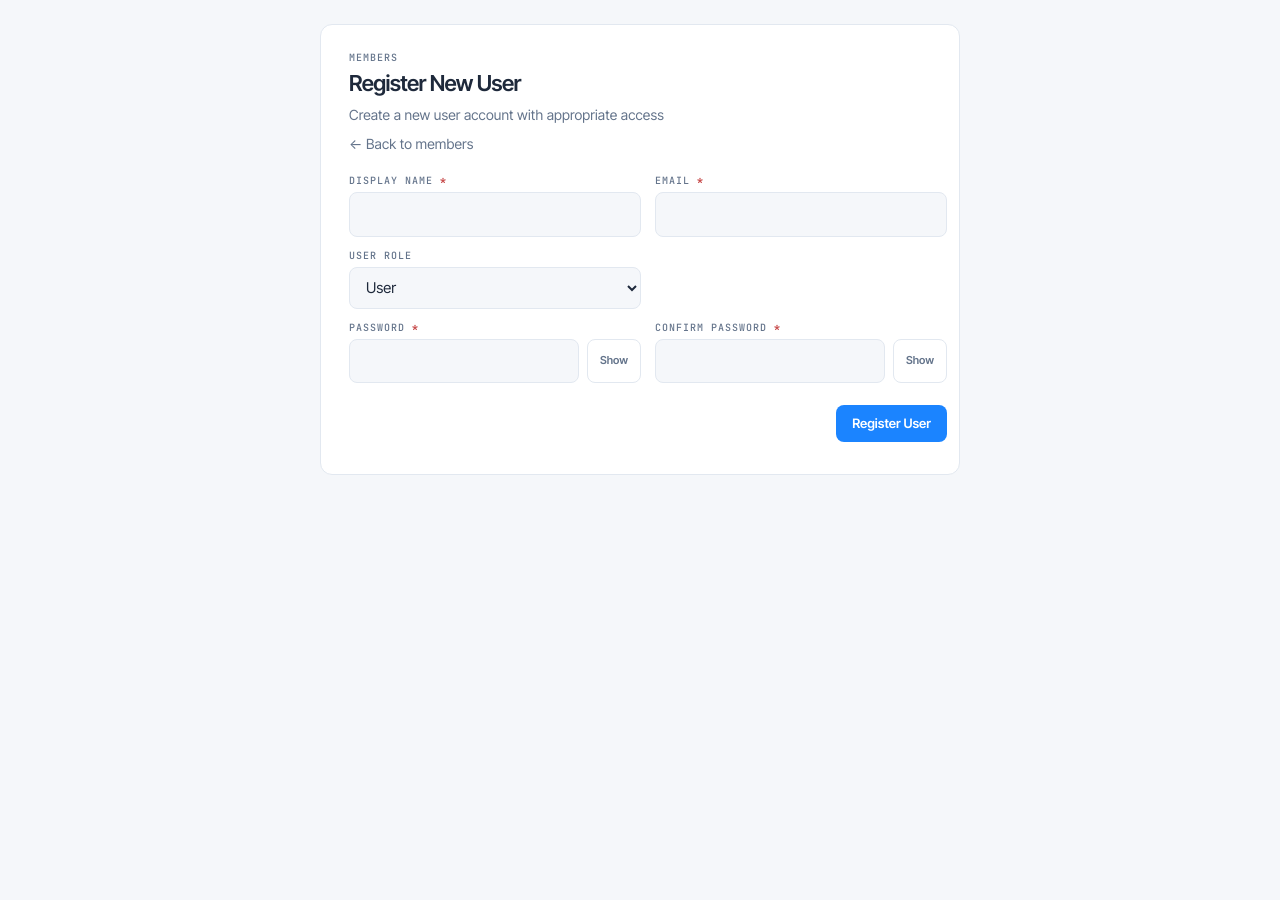
Test: CreateUserPage › registers a user as admin and returns to members
The width and height of the screenshot is (1280, 900).
Type "Fresh" into the field labelled "Display Name *" at (495, 214), box left=349, top=192, right=641, bottom=237
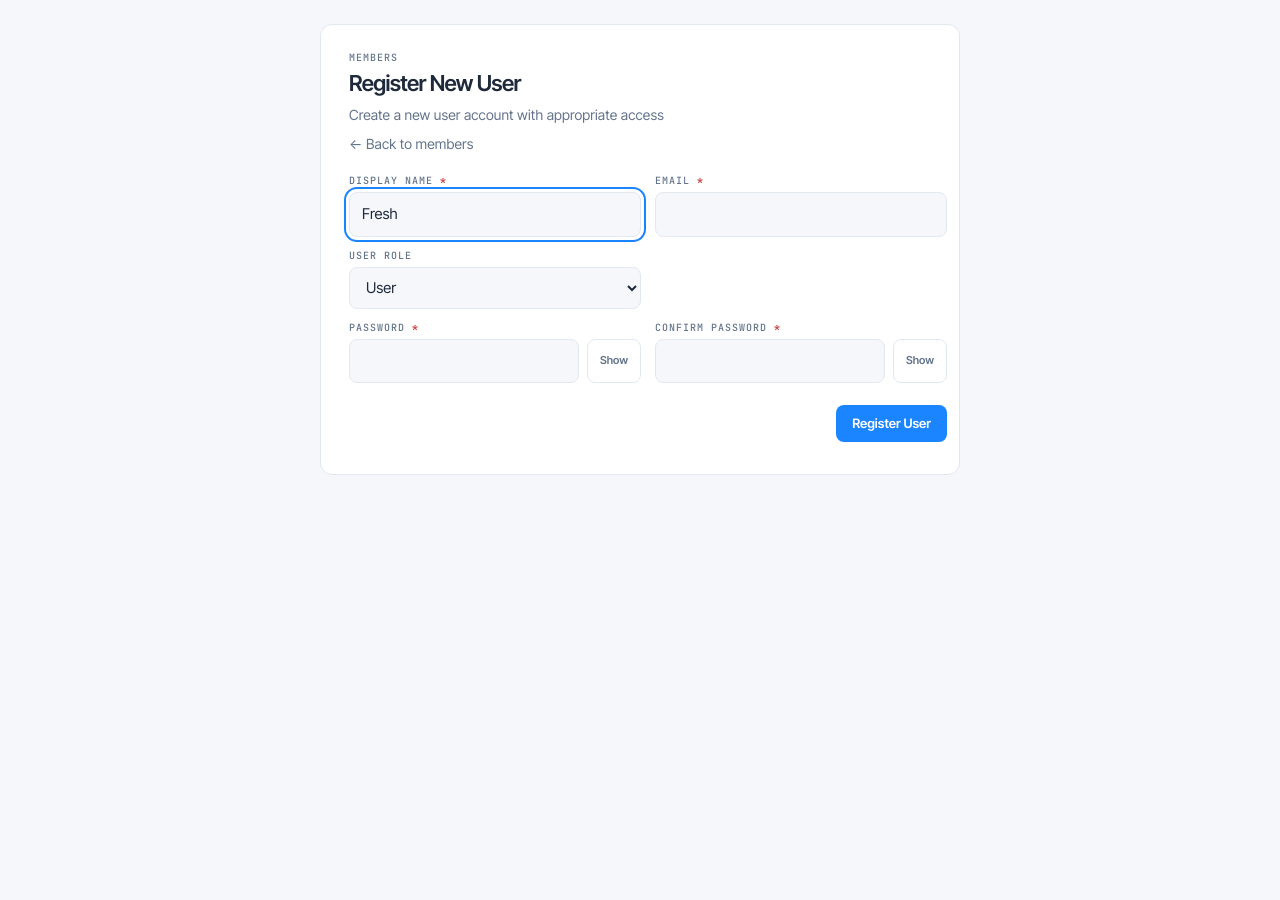
Type "fresh@printmomentum.local" into the field labelled "Email *" at (801, 214), box left=655, top=192, right=947, bottom=237
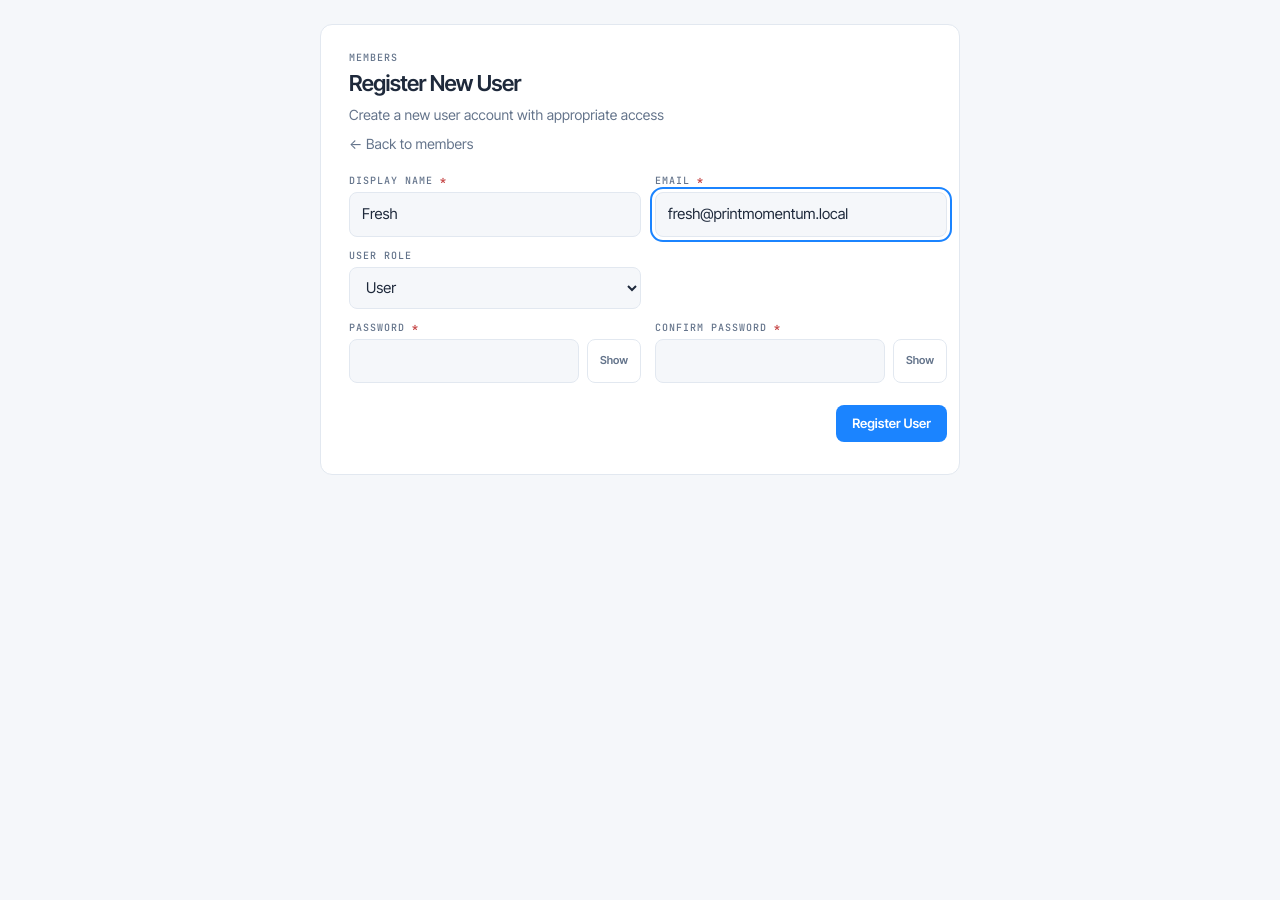
Type "Secret1" into the password field labelled "Password * Show" at (464, 361), box left=349, top=339, right=579, bottom=383
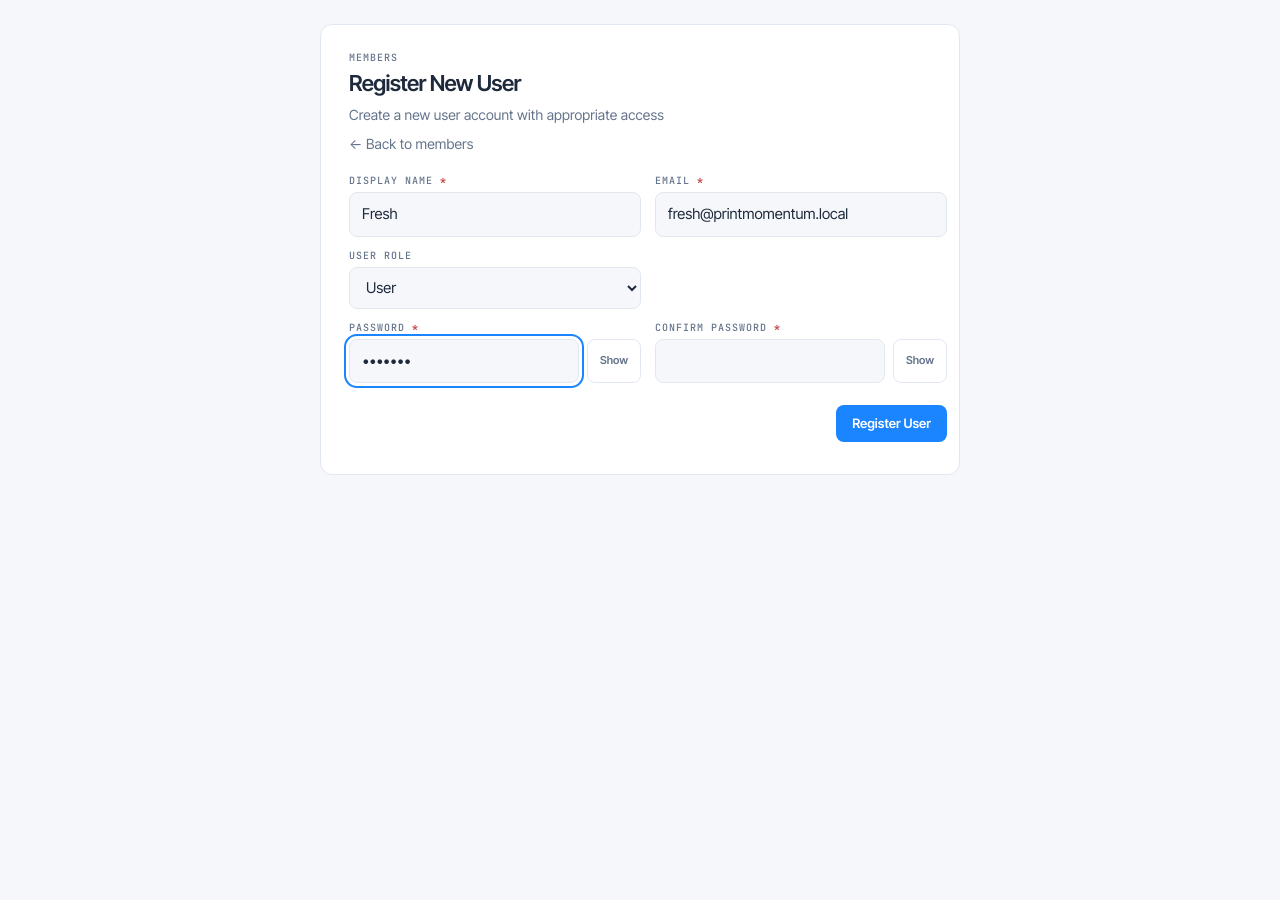
Type "Secret1" into the password field labelled "Confirm Password * Show" at (770, 361), box left=655, top=339, right=885, bottom=383
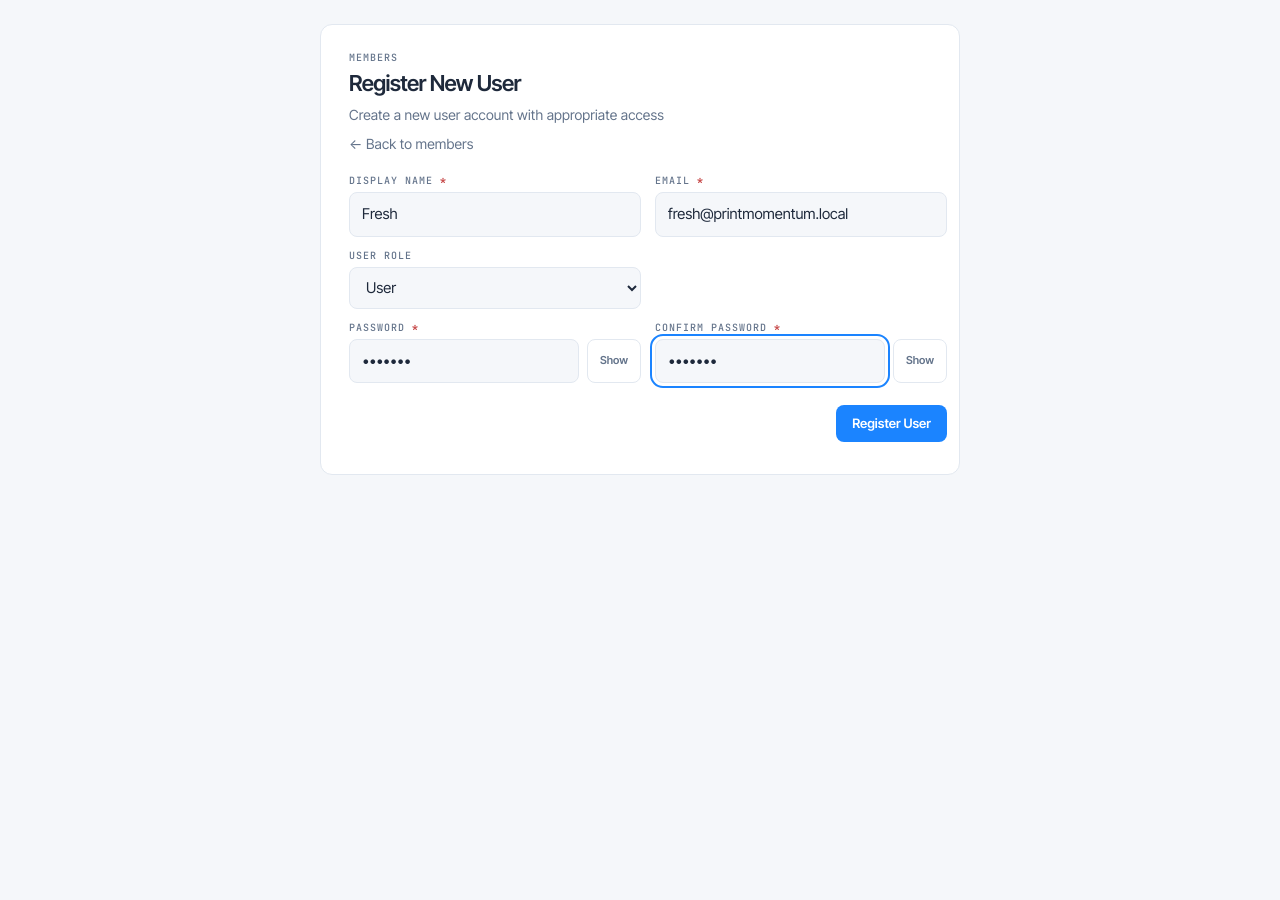
Click the button "Register User" at (892, 423), box left=836, top=405, right=947, bottom=442
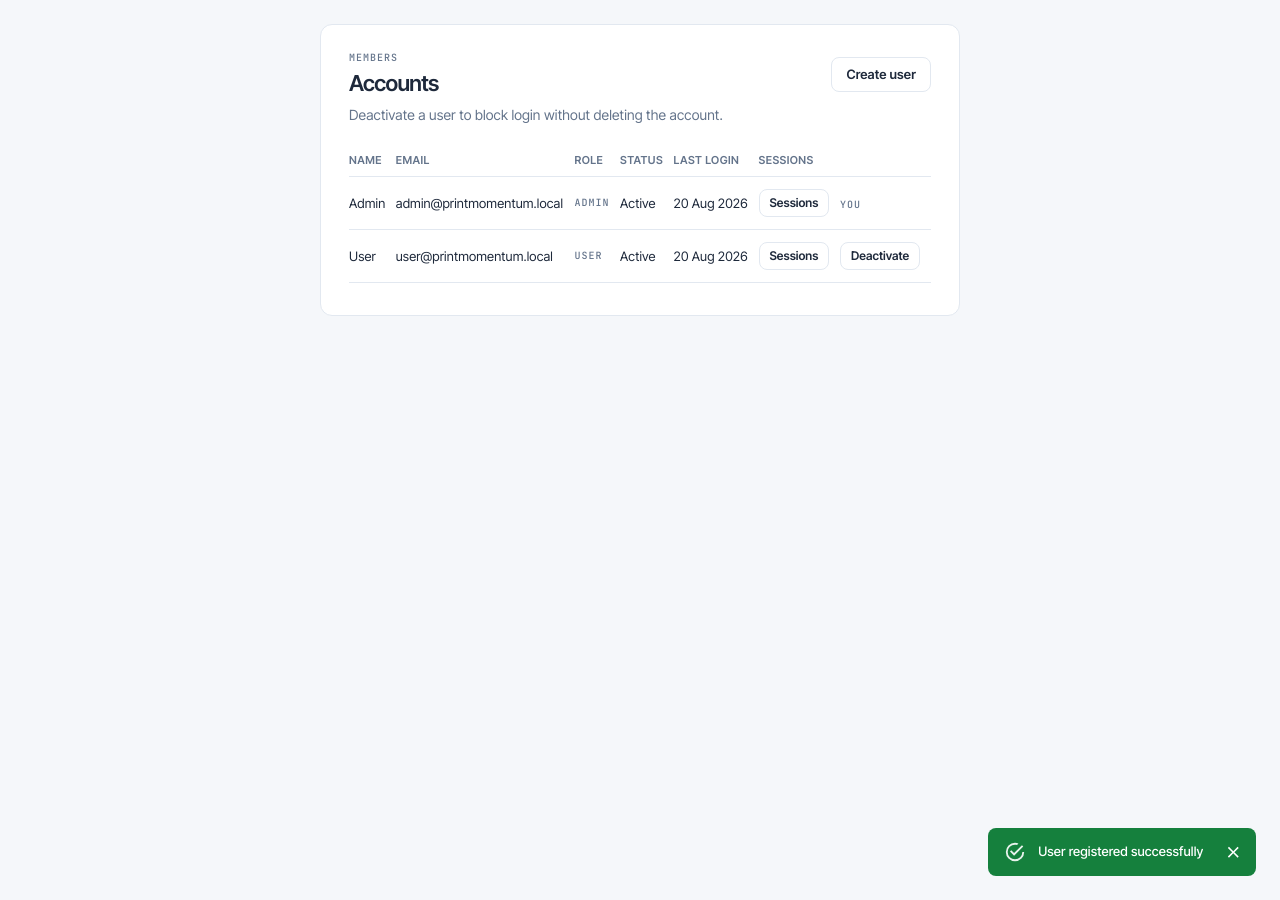
Expected: the heading "Accounts" is shown, left=349, top=70, right=439, bottom=96
Expected: the message reads "User registered successfully", left=1038, top=843, right=1203, bottom=859
